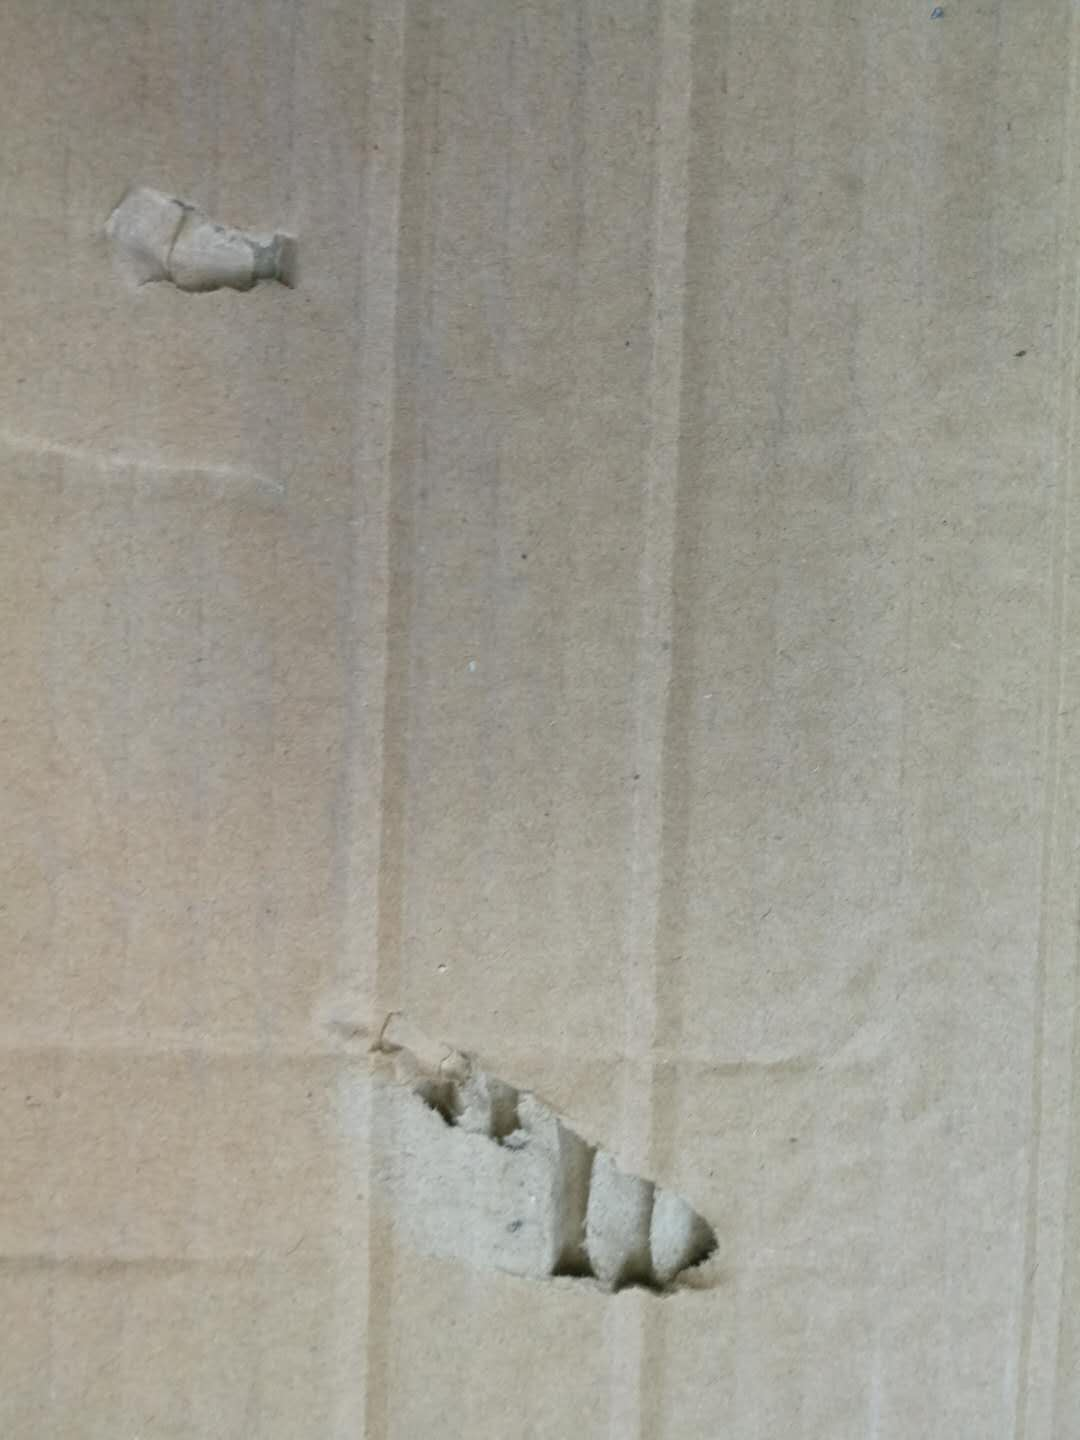defect: (2, 985, 922, 1308), (574, 1, 757, 1440), (294, 1, 472, 1440), (299, 973, 757, 1321), (65, 156, 323, 332), (5, 412, 312, 548)
